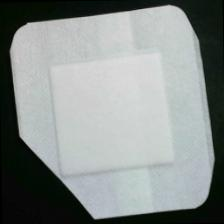Cut: (7, 2, 220, 223)
